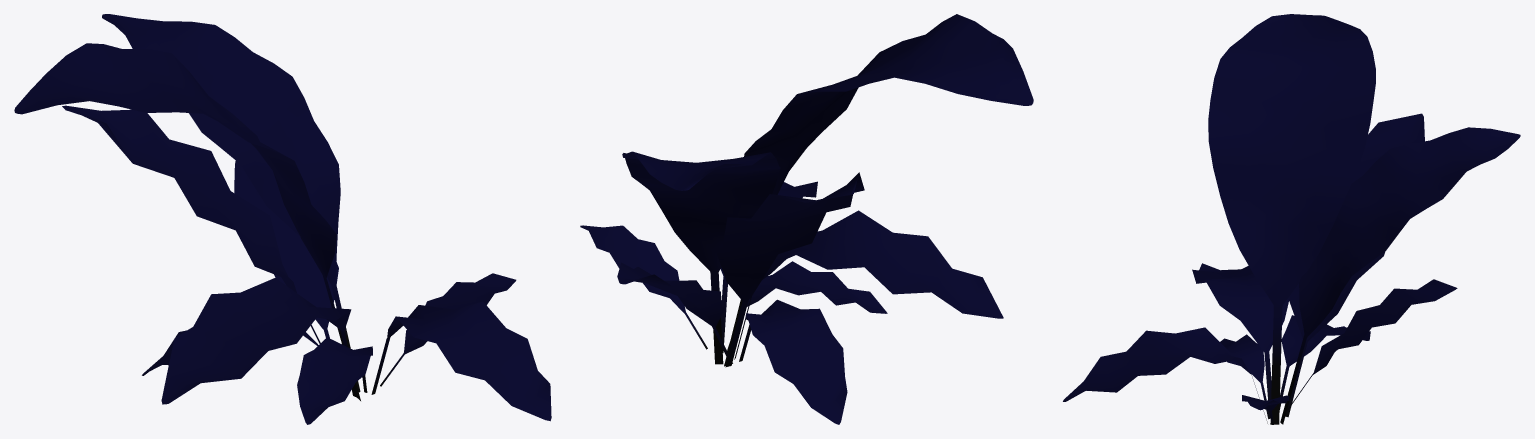
Rendered from SM_Foliage_PalmPlantB_01.fbx.
The picture shows the model from 3 angles, left to right: view 1: azimuth 30°, elevation 25°; view 2: azimuth 150°, elevation 25°; view 3: azimuth 270°, elevation 25°; orthographic projection. The views are drawn at different scales.
Parts seen in each view (by area): view 1: SM_Foliage_PalmPlantB_01; view 2: SM_Foliage_PalmPlantB_01; view 3: SM_Foliage_PalmPlantB_01.
Part boxes in pixels (x1,y1,x2,y2): SM_Foliage_PalmPlantB_01: (14,14,551,424); SM_Foliage_PalmPlantB_01: (580,14,1033,424); SM_Foliage_PalmPlantB_01: (1063,14,1520,424).
Size of the model in its own units: 198 by 206 by 150.
